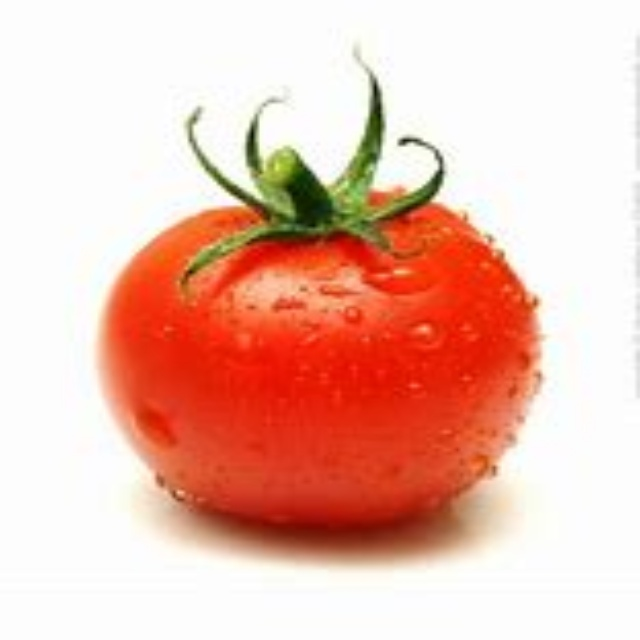tomato: (94, 115, 544, 543)
